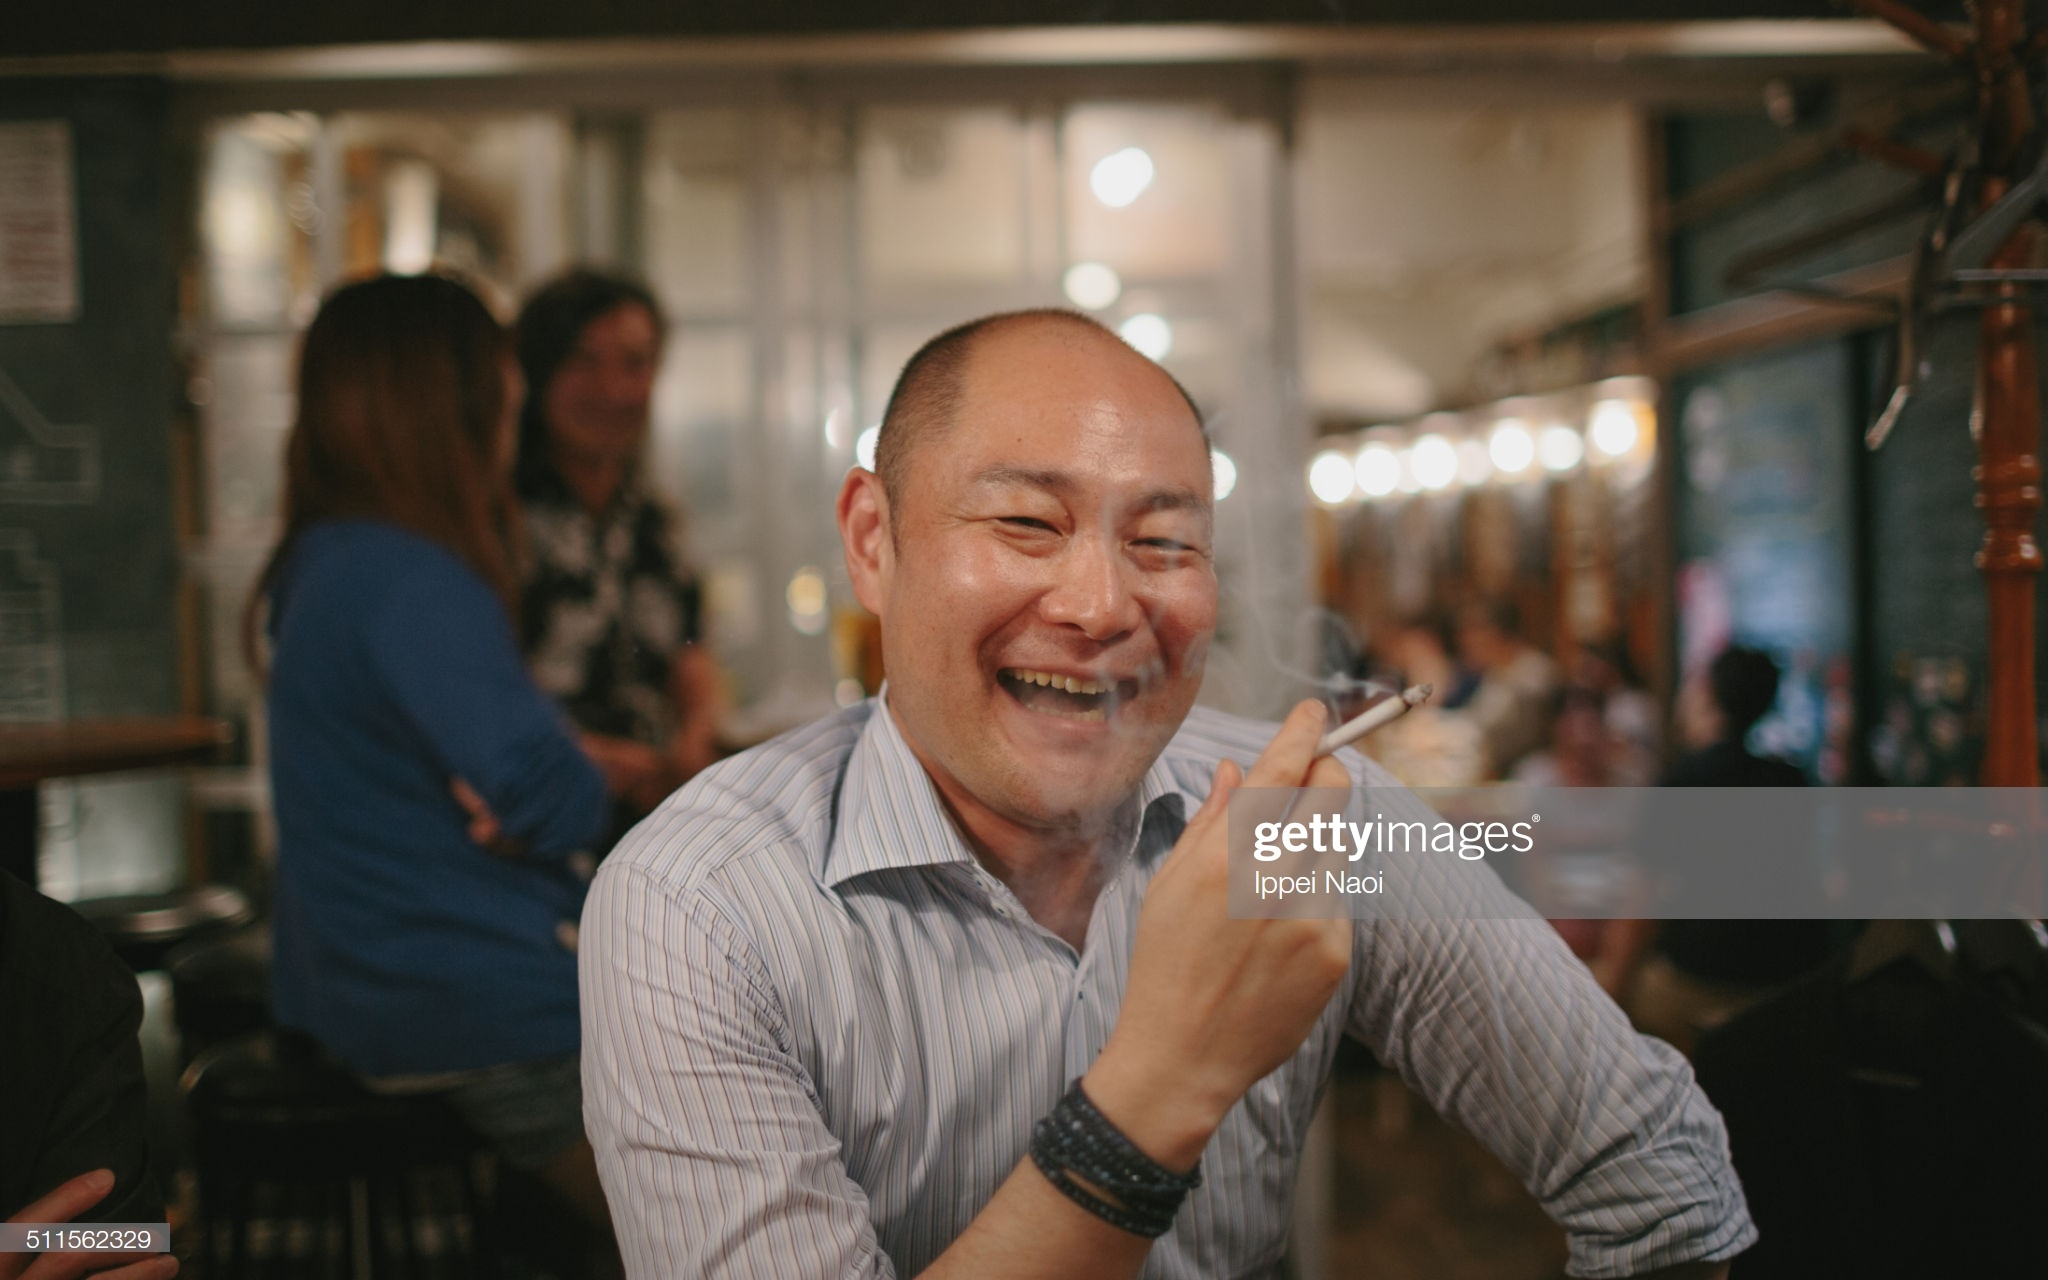sigaretta: (1292, 675, 1432, 770)
